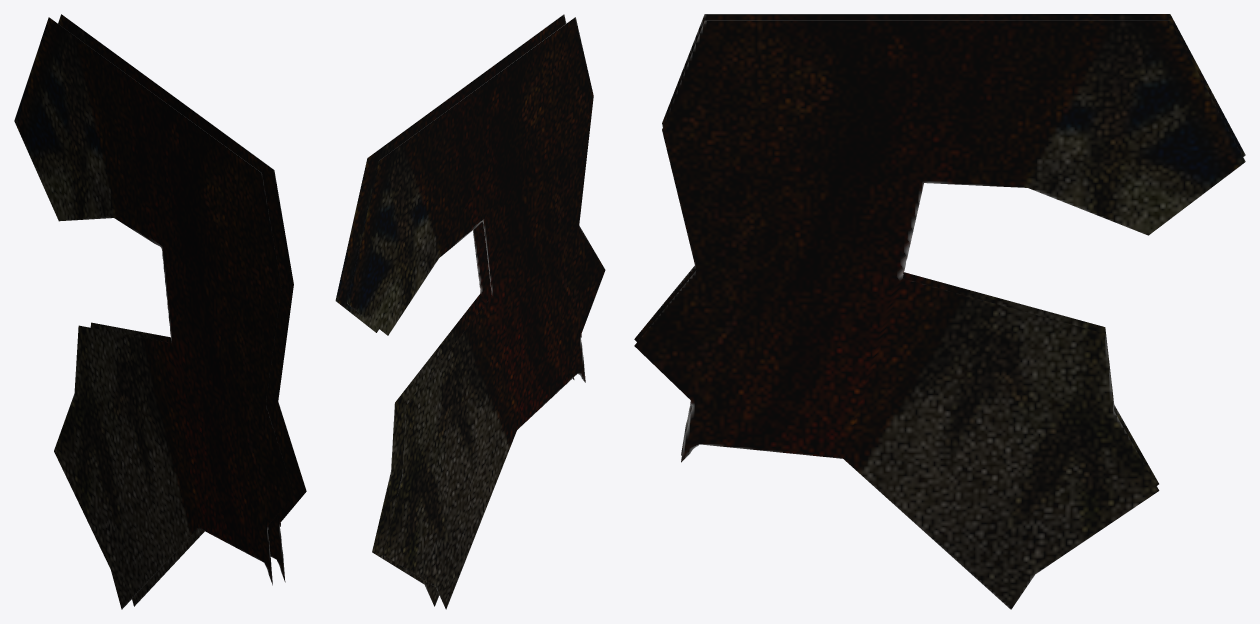
Rendered from Peça 6.fbx.
3 renders of one model, left to right at view 1: azimuth 30°, elevation 25°; view 2: azimuth 150°, elevation 25°; view 3: azimuth 270°, elevation 25°, orthographic. The views are drawn at different scales.
Parts seen in each view (by area): view 1: Plane; view 2: Plane; view 3: Plane.
Boxes of the visible parts, box(x1,y1,x2,y2) form: Plane: box(14, 14, 306, 609); Plane: box(335, 14, 605, 609); Plane: box(634, 14, 1245, 609).
Size of the model in its own units: 11.97 by 498 by 468.
